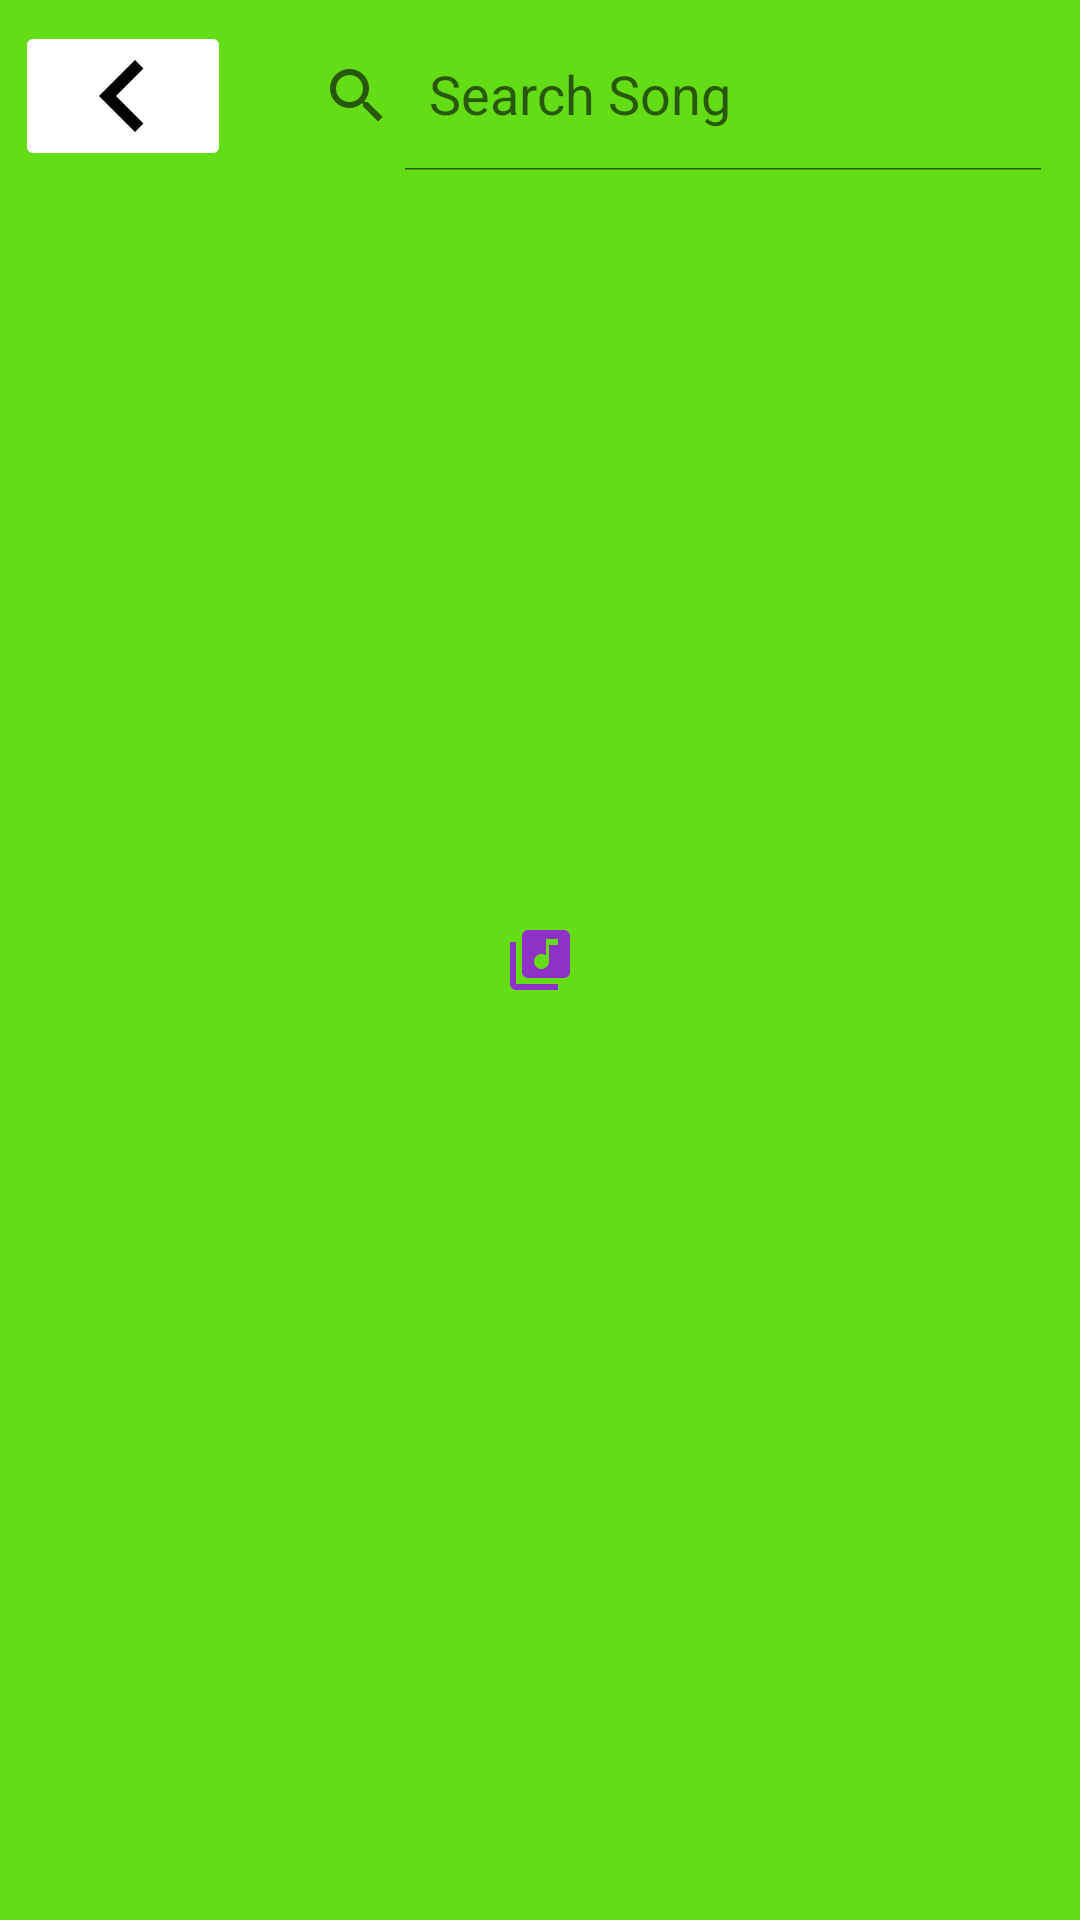

Where to tap for icons on this 1080px x 1920px app screen, as (x=x, y=y):
Back: (x=123, y=96)
